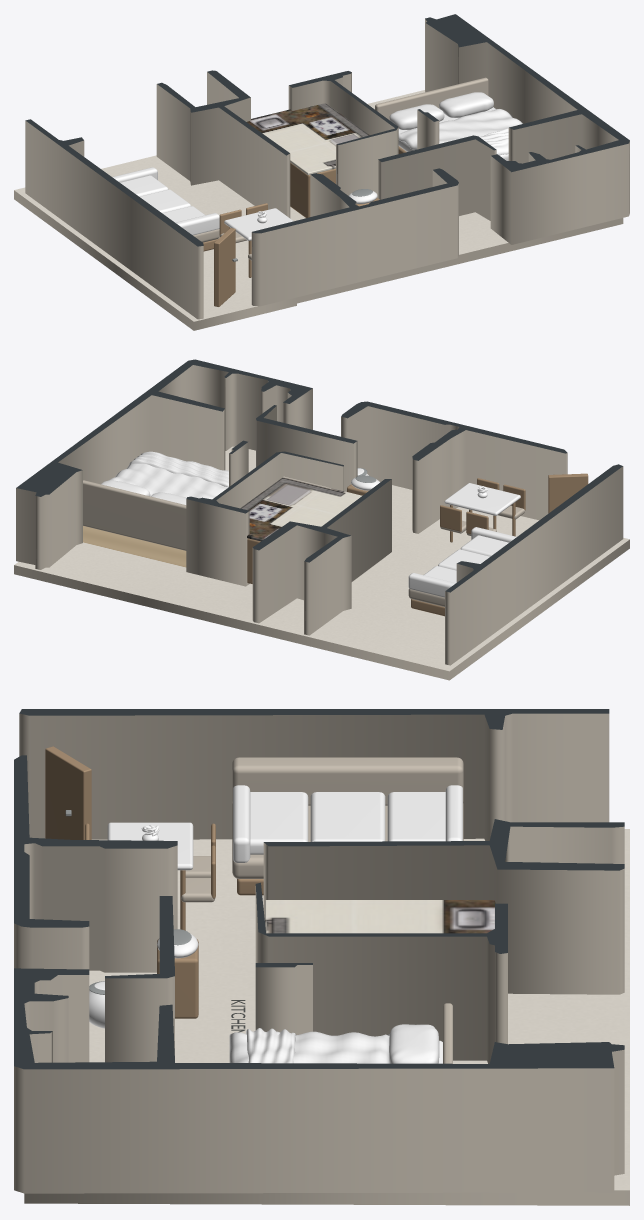
Rendered from opal-group-unit-04.glb.
3 views of the same model, one above another, from view 1: azimuth 30°, elevation 25°; view 2: azimuth 150°, elevation 25°; view 3: azimuth 270°, elevation 25° (orthographic). The views are drawn at different scales.
Parts seen in each view (by area): view 1: Partition walls, Apartment floor, Stone worktop, Draped bed linen, Upholstered headboard, Open oak door, Kitchen cabinets, Tailored pillow.001, Marble dining top, Tailored pillow, Seat cushion.001, Padded armrest (+1 smaller); view 2: Partition walls, Apartment floor, Upholstered headboard, Stone worktop, Draped bed linen, Marble dining top, Draped bed linen.001, Open oak door, Padded armrest.001, Seat cushion, Seat cushion.001, Chair back.003; view 3: Partition walls, Apartment floor, Sofa back, Stone worktop, Open oak door, Seat cushion.001, Draped bed linen, Seat cushion, Seat cushion.002, Tailored pillow, Marble dining top, Vanity cabinet (+5 smaller).
Boxes of the visible parts, box(x1,y1,x2,y2) form: Partition walls: box(25, 14, 629, 319); Apartment floor: box(14, 90, 623, 330); Stone worktop: box(247, 103, 369, 175); Draped bed linen: box(398, 109, 522, 155); Upholstered headboard: box(375, 77, 488, 119); Open oak door: box(214, 228, 235, 306); Kitchen cabinets: box(290, 162, 335, 217); Tailored pillow.001: box(439, 92, 493, 117); Marble dining top: box(224, 208, 293, 240); Tailored pillow: box(389, 104, 444, 129); Seat cushion.001: box(139, 189, 190, 212); Padded armrest: box(175, 213, 219, 235); Partition walls: box(16, 359, 623, 665); Apartment floor: box(14, 446, 629, 680); Upholstered headboard: box(83, 480, 186, 550); Stone worktop: box(240, 476, 362, 541); Draped bed linen: box(109, 452, 228, 499); Marble dining top: box(444, 483, 520, 515); Draped bed linen.001: box(129, 451, 228, 487); Open oak door: box(548, 473, 588, 513); Padded armrest.001: box(408, 573, 455, 597); Seat cushion: box(460, 535, 508, 556); Seat cushion.001: box(438, 549, 489, 570); Chair back.003: box(440, 505, 461, 531); Partition walls: box(14, 709, 624, 1193); Apartment floor: box(24, 829, 629, 1205); Sofa back: box(232, 757, 463, 805); Stone worktop: box(265, 900, 495, 933); Open oak door: box(45, 746, 91, 839); Seat cushion.001: box(310, 792, 385, 841); Draped bed linen: box(229, 1031, 389, 1063); Seat cushion: box(250, 792, 308, 854); Seat cushion.002: box(387, 792, 445, 841); Tailored pillow: box(389, 1024, 439, 1063); Marble dining top: box(107, 822, 193, 870); Vanity cabinet: box(157, 939, 198, 1018).
Bounding box in the file's own units: 8.06 × 1.44 × 5.76.
Materials: 12 (2 with a texture image).
